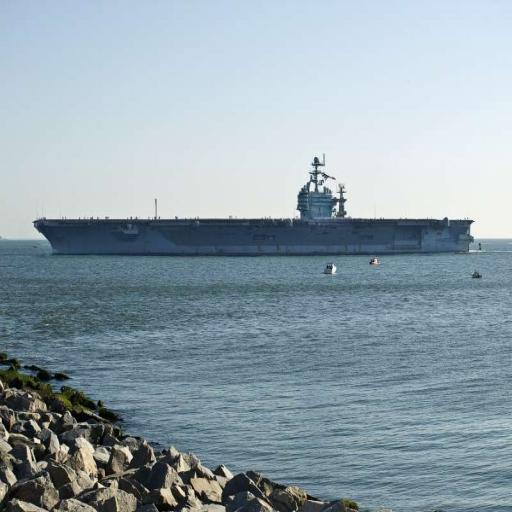Portanaves: (33, 149, 479, 259)
